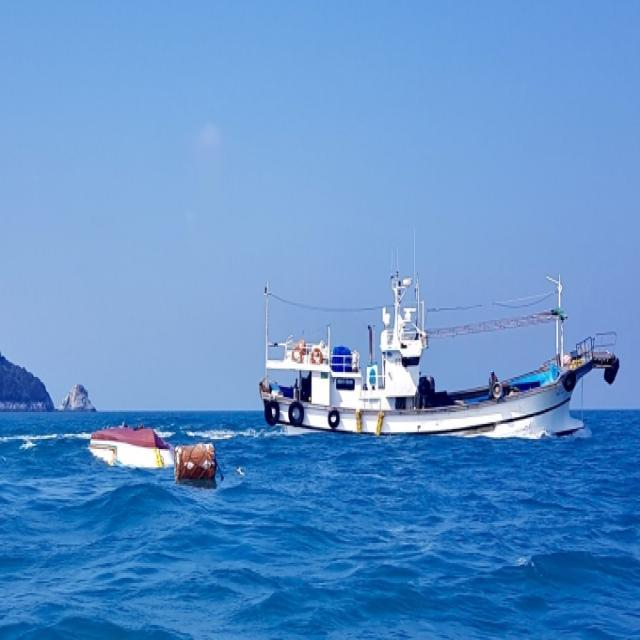Ship: (260, 239, 629, 450)
